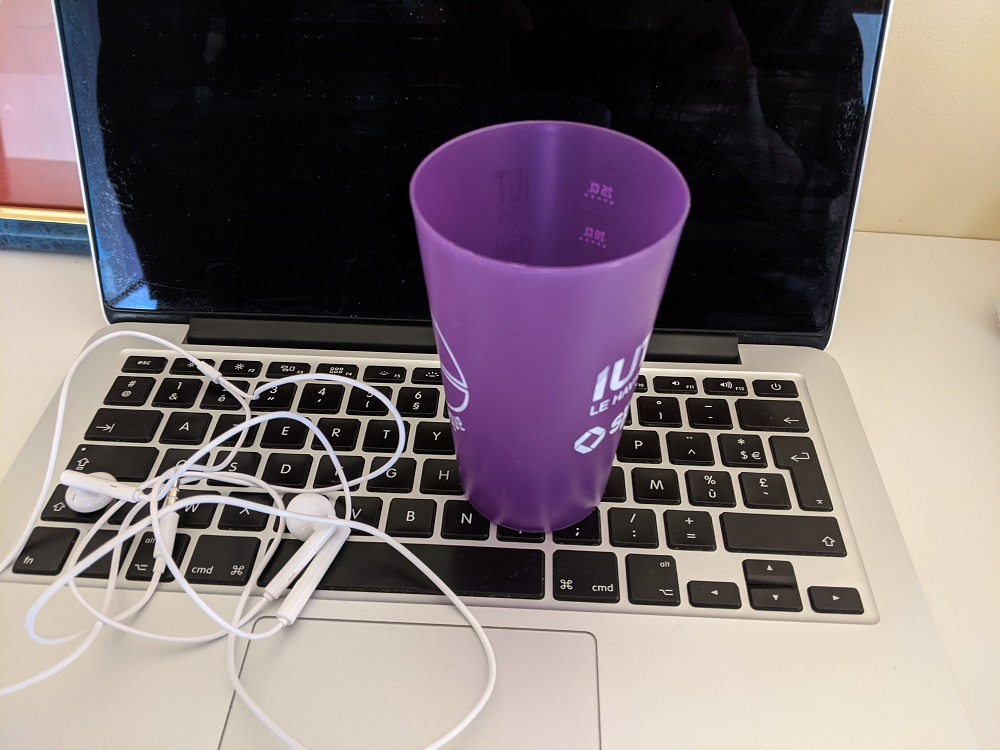ecocup: (409, 120, 691, 533)
